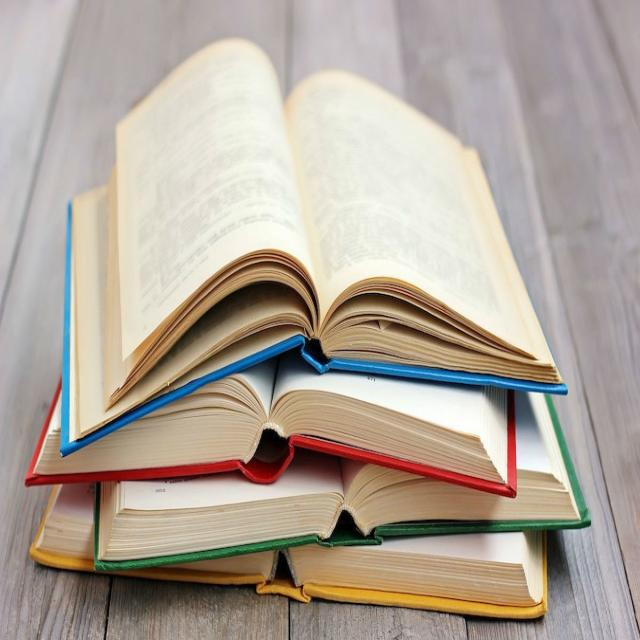book: (37, 33, 611, 413)
